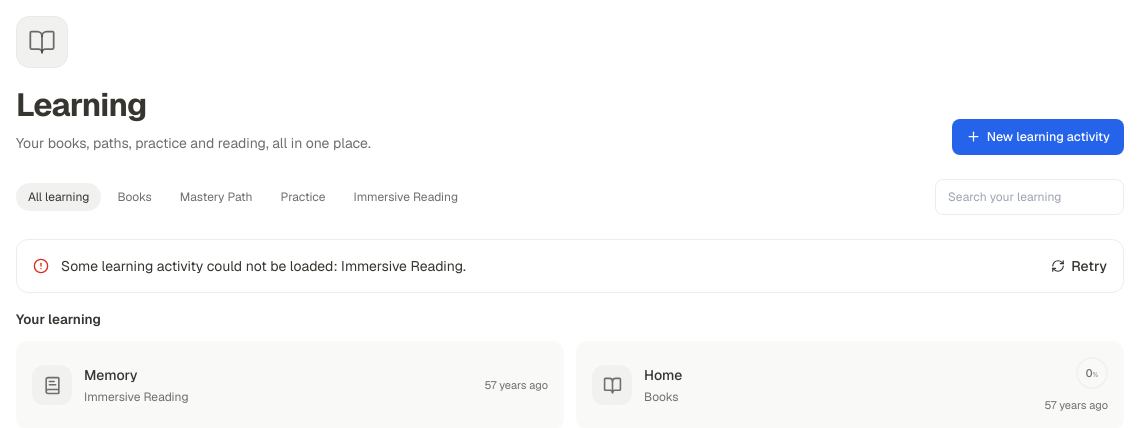
Test: a failed source preserves other activities and user titles are never translated
expect the message "Some learning activity could not be loaded: Immersive Reading. Retry" is shown: met, box [16,239,1124,293]
What coordinates should you click on to do the following:
click the button "Retry"
I would click on:
 (1079, 266)
Its box is [1051,256,1107,276].
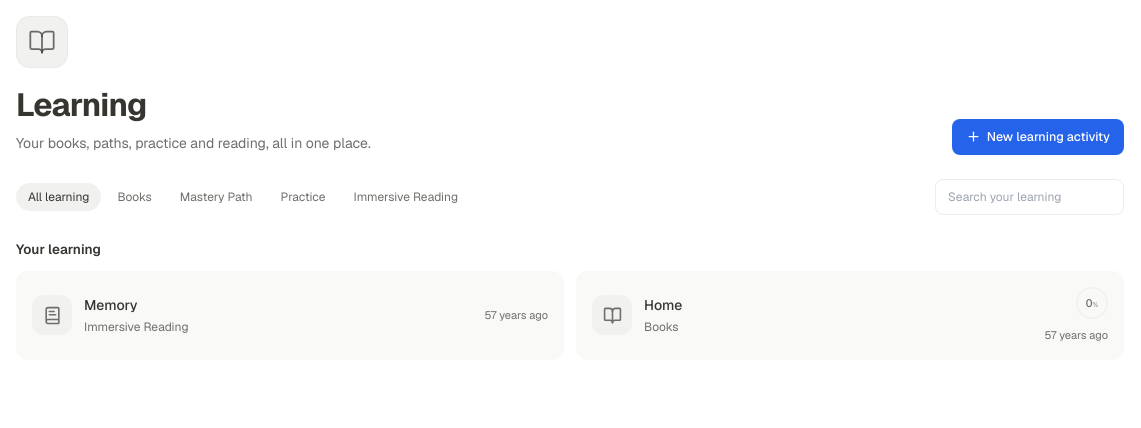
expect the message "Some learning activity could not be loaded: Immersive Reading. Retry" is gone: met
